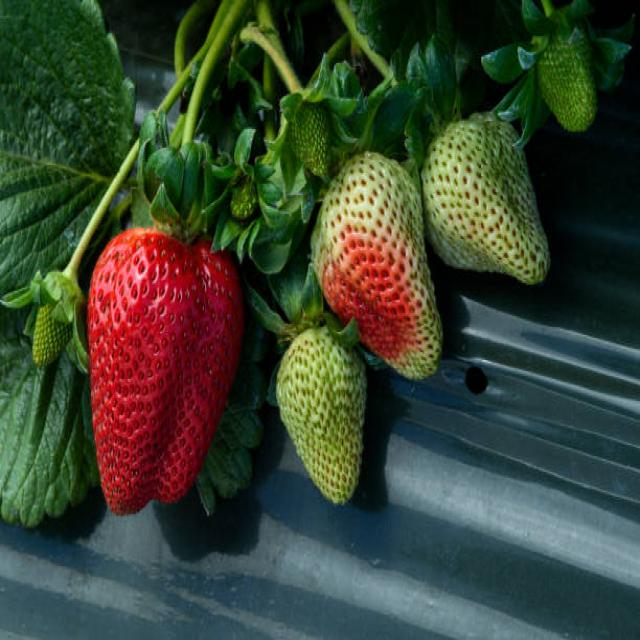Healthy Fruit: (88, 229, 243, 518), (309, 149, 443, 384), (419, 109, 550, 283), (275, 329, 369, 507)
